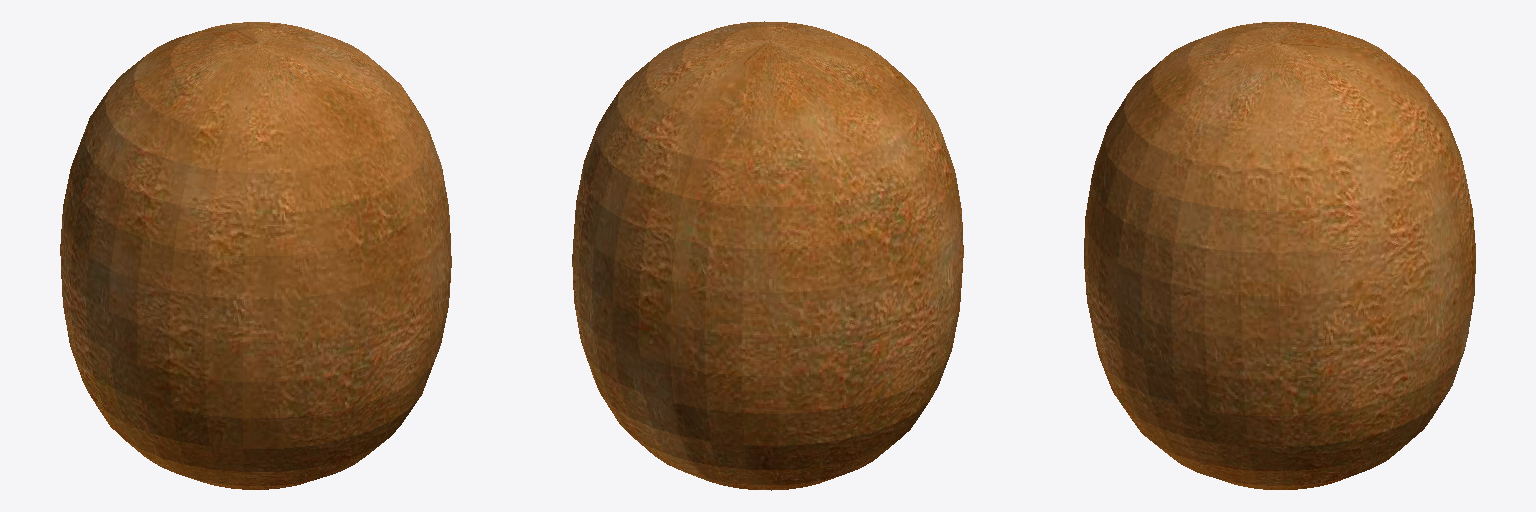
3 renders of one model, left to right at view 1: azimuth 30°, elevation 25°; view 2: azimuth 150°, elevation 25°; view 3: azimuth 270°, elevation 25°, orthographic.
Visible parts, largest first — view 1: Sphere01; view 2: Sphere01; view 3: Sphere01.
Part boxes in pixels (x1,y1,x2,y2): Sphere01: (60, 22, 451, 489); Sphere01: (572, 21, 963, 490); Sphere01: (1084, 22, 1475, 489).
Size of the model in its own units: 21.26 by 25.51 by 21.26.
1 materials, 1 textured.